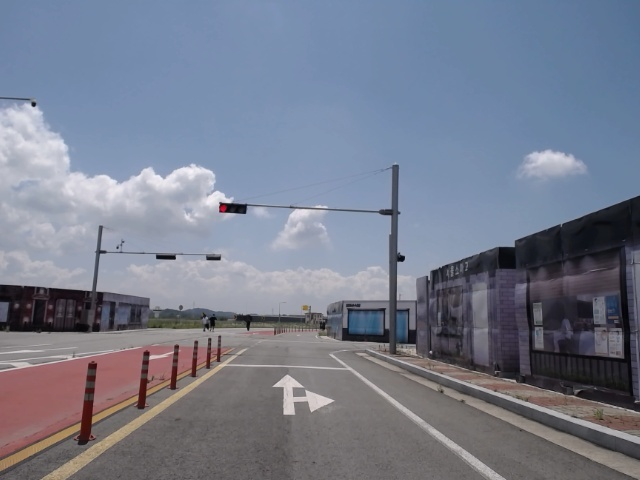red_3: (218, 201, 247, 216)
